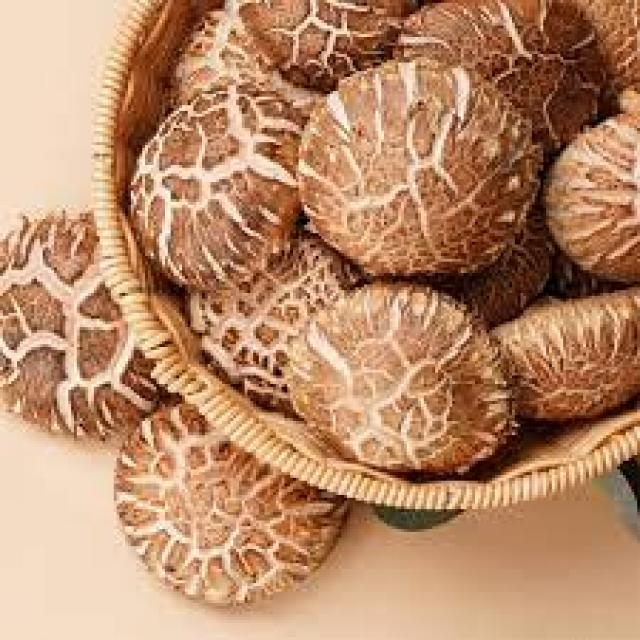mushroom: (293, 60, 535, 284), (282, 279, 532, 489), (140, 70, 304, 280)
